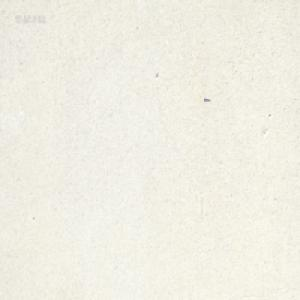Nail: (203, 97, 210, 102)
